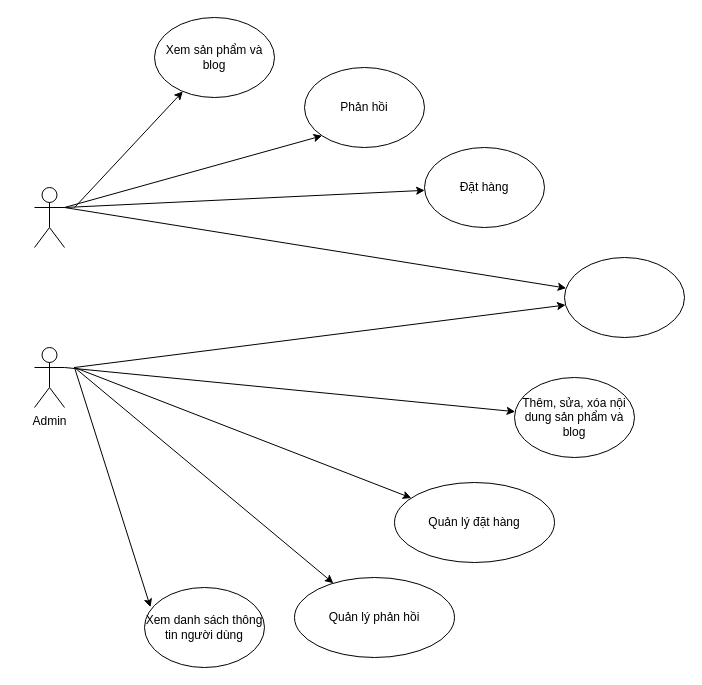
The diagram is 702 pixels wide and 685 high, and some of its shapes have lost their labels. The shapes that lost their labels are listed below. From the top down, each one's box as (x1, y1, x2, y2) in pixels, then its label:
(34, 186, 64, 248): Người dùng
(564, 256, 684, 338): Đăng ký, Đăng nhập
